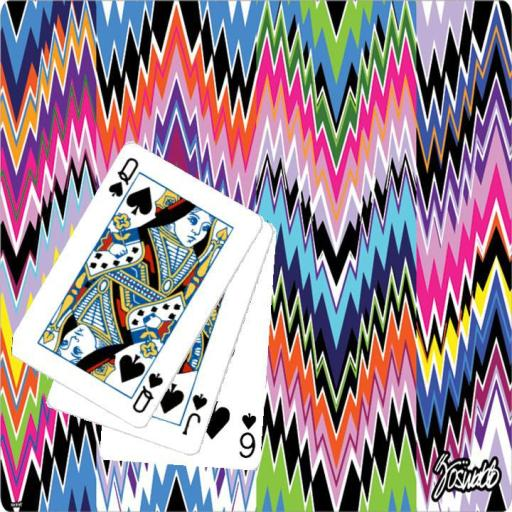6S: (236, 410, 258, 460)
JS: (179, 391, 209, 438)
QS: (129, 370, 165, 415), (105, 154, 141, 199)
